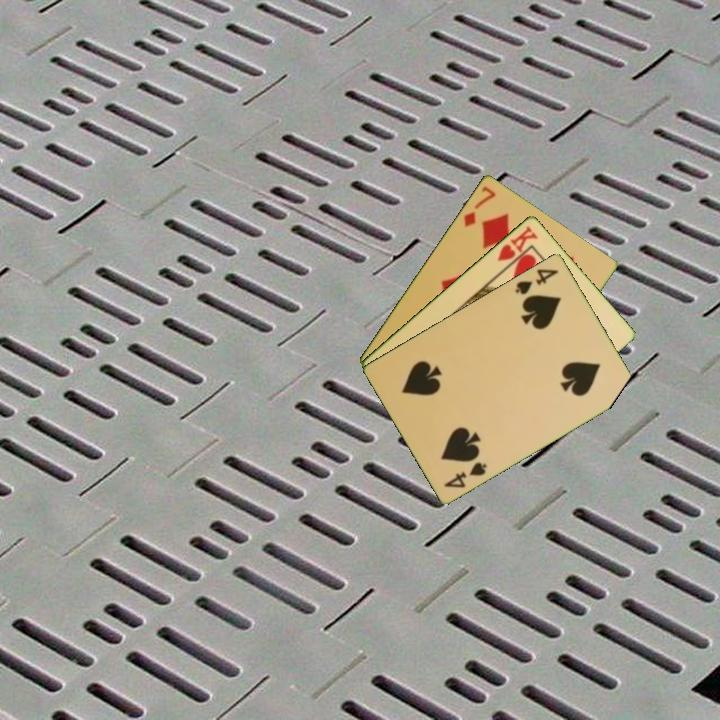4s: (440, 458, 490, 491), (511, 265, 562, 297)
7d: (460, 182, 499, 230)
Kh: (493, 222, 541, 272)
